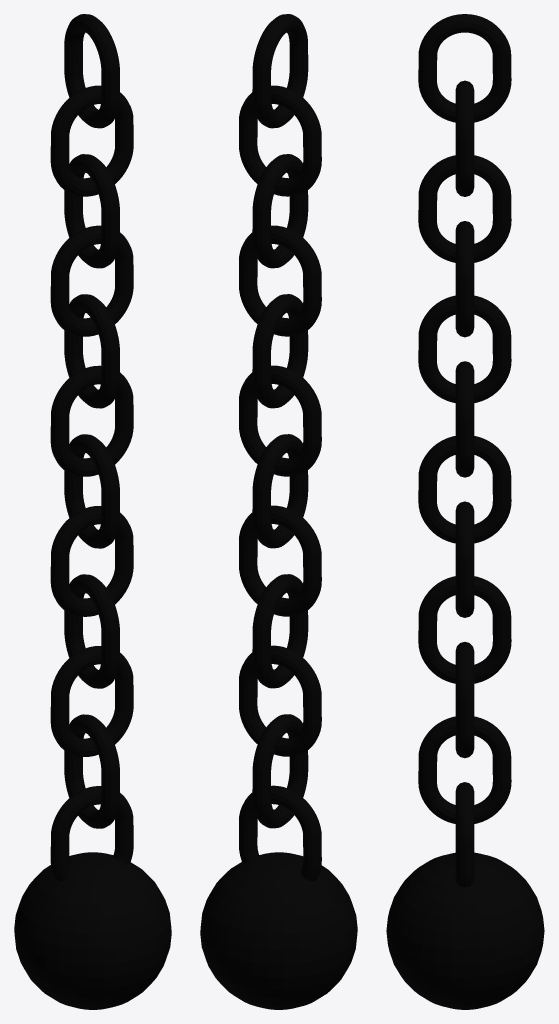
Rendered from kale oyunu 1 1.fbx.
The picture shows the model from 3 angles, left to right: view 1: azimuth 30°, elevation 25°; view 2: azimuth 150°, elevation 25°; view 3: azimuth 270°, elevation 25°; orthographic projection.
Visible parts, largest first — view 1: node_id6, node_id8, node_id10; view 2: node_id6, node_id8, node_id10; view 3: node_id8, node_id10, node_id6.
Boxes of the visible parts, <box> form: node_id6: <box>50,85,133,881</box>; node_id8: <box>64,14,119,828</box>; node_id10: <box>14,852,171,1009</box>; node_id6: <box>239,85,321,880</box>; node_id8: <box>252,14,308,828</box>; node_id10: <box>200,852,357,1009</box>; node_id8: <box>418,14,511,823</box>; node_id10: <box>386,852,544,1009</box>; node_id6: <box>455,80,474,887</box>.
Bounding box in the file's own units: 0.0381 × 0.2621 × 0.0381.
Materials: 3 (3 with a texture image).
